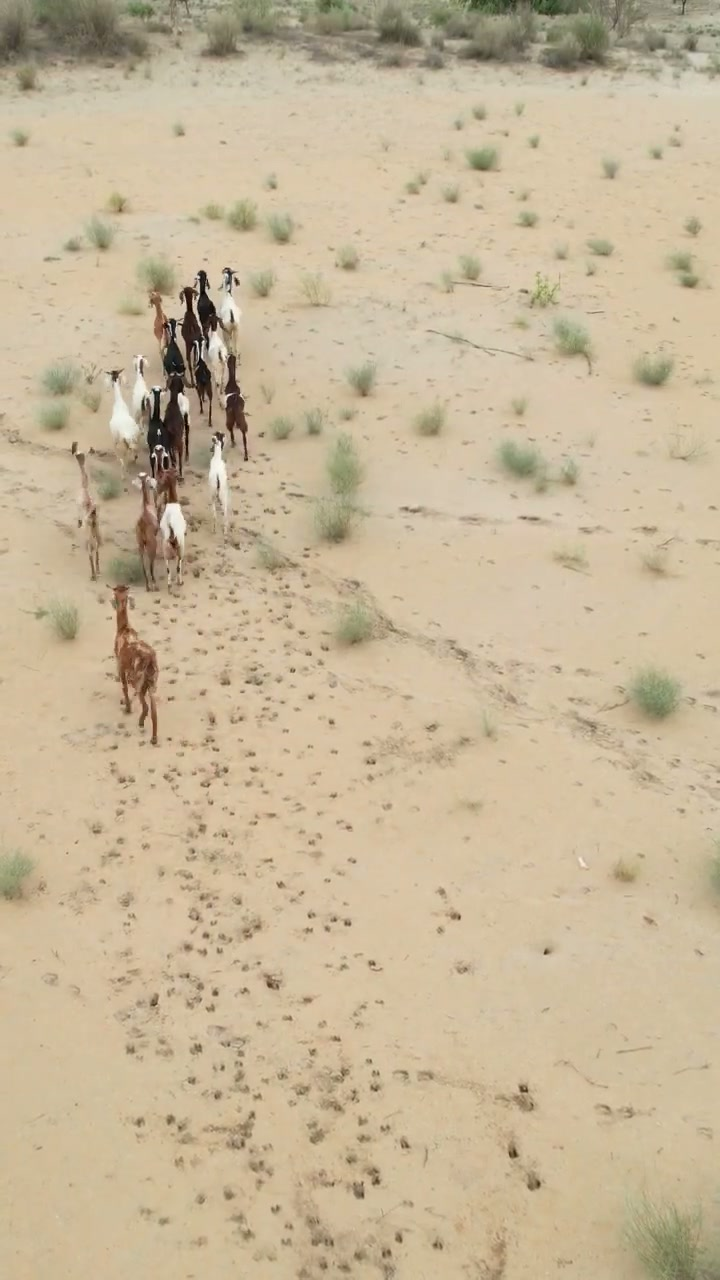animal_footprint: (79, 540, 388, 1268)
